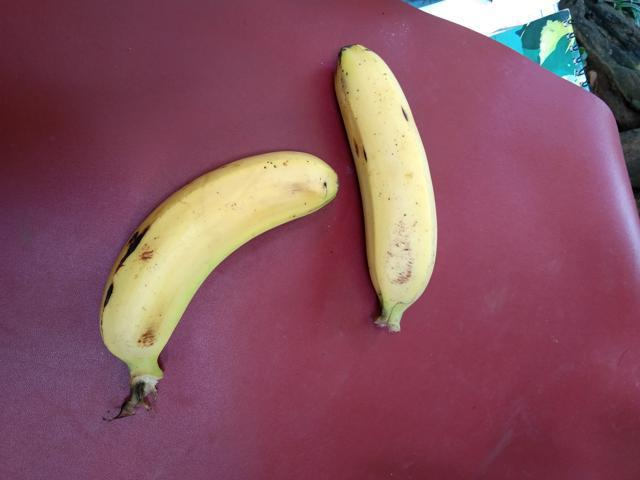freshripe: (323, 32, 459, 340)
ripe: (90, 147, 318, 366)
